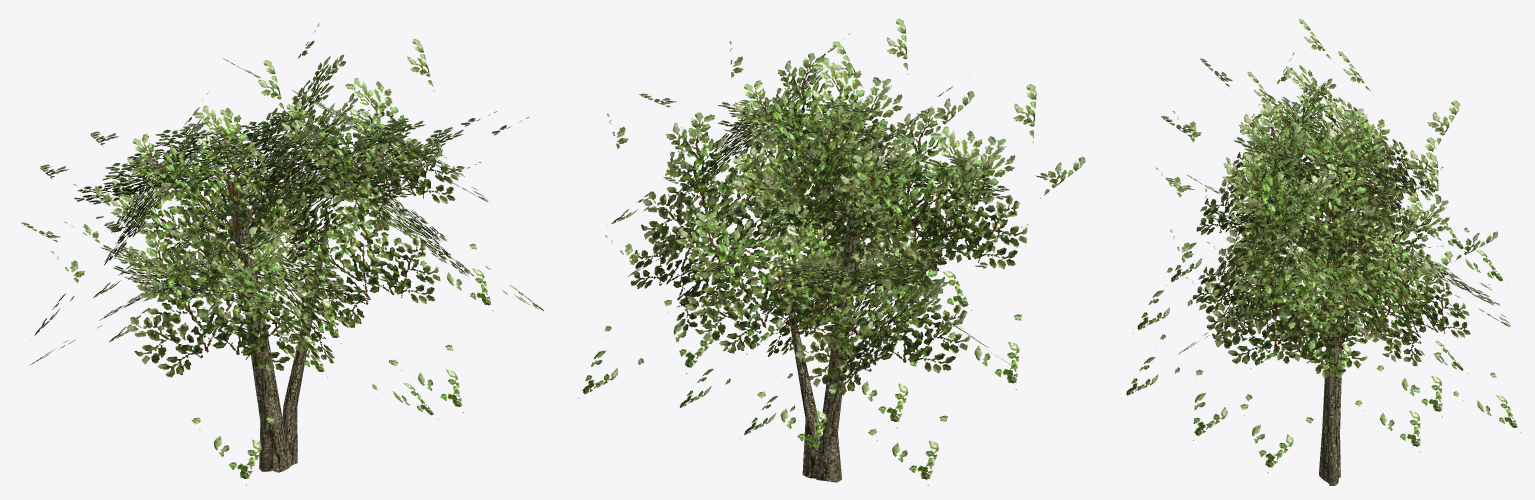
File: carob_v4.glb
3 renders of one model, left to right at view 1: azimuth 30°, elevation 25°; view 2: azimuth 150°, elevation 25°; view 3: azimuth 270°, elevation 25°, orthographic. The views are drawn at different scales.
Visible parts, largest first — view 1: tree_carob_top_f, tree_carob_b; view 2: tree_carob_top_f, tree_carob_b; view 3: tree_carob_top_f, tree_carob_b.
Part boxes in pixels (box(x1,y1,x2,y2)): tree_carob_top_f: box(21, 23, 543, 485); tree_carob_b: box(226, 178, 330, 472); tree_carob_top_f: box(578, 18, 1085, 485); tree_carob_b: box(778, 205, 861, 482); tree_carob_top_f: box(1121, 19, 1520, 472); tree_carob_b: box(1319, 192, 1346, 485).
Bounding box in the file's own units: 19.27 × 14.74 × 14.46.
2 materials, 2 textured.
